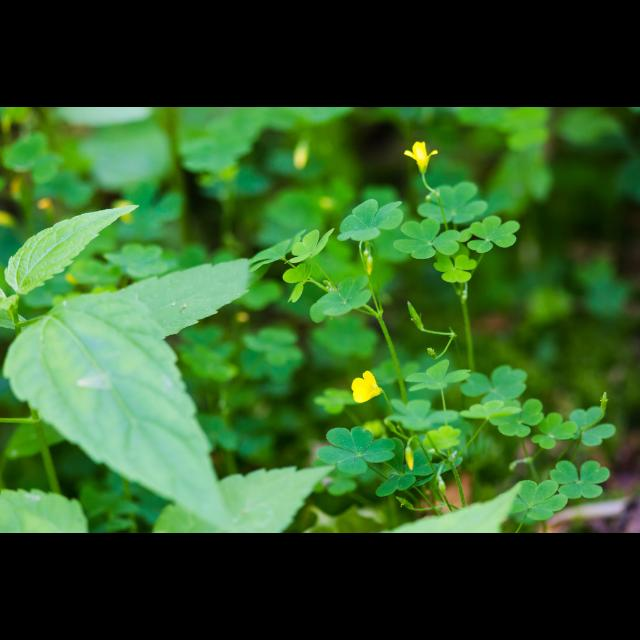Flower: (402, 140, 438, 173), (350, 371, 380, 401)
